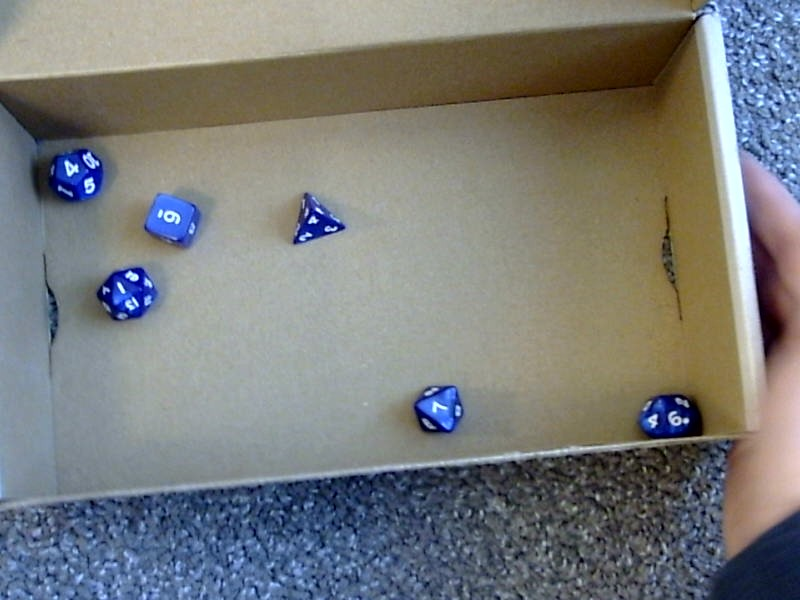d10 6: (631, 384, 698, 444)
d12 4: (41, 143, 107, 203)
d20 1: (87, 267, 163, 324)
d4 4: (283, 187, 348, 247)
d6 6: (139, 189, 209, 251)
d8 7: (403, 376, 470, 440)
